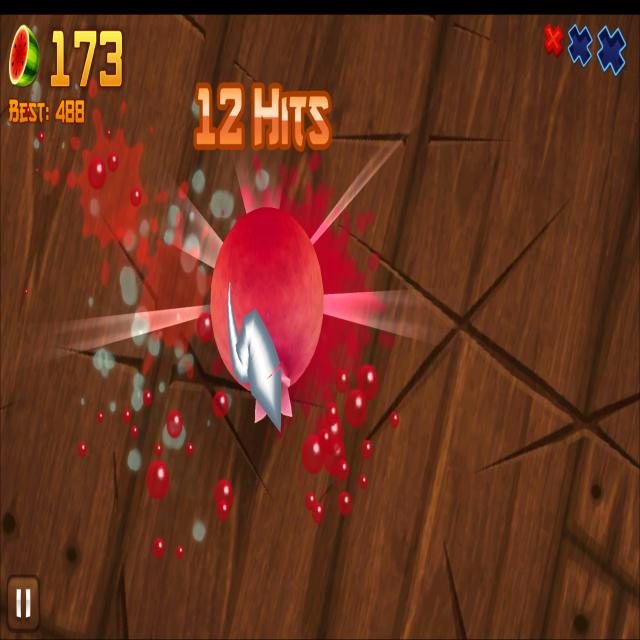fruit: (210, 205, 324, 395)
